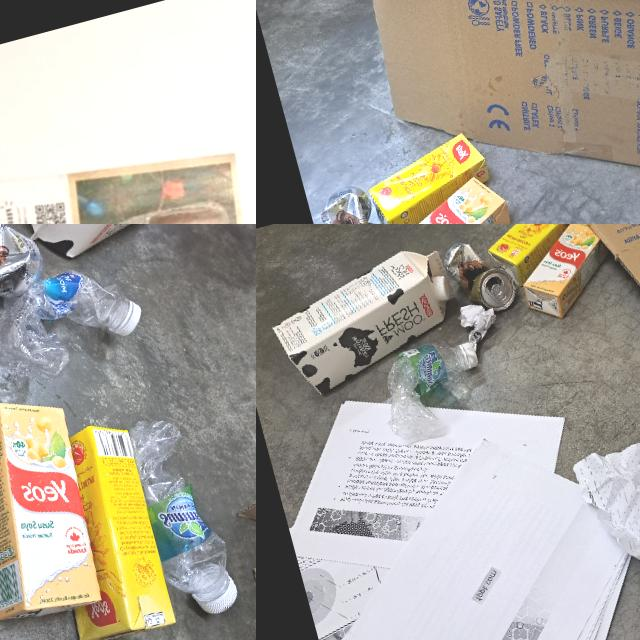aba de lata: (490, 282, 507, 304)
caixinha: (26, 415, 179, 640), (262, 241, 470, 404), (0, 387, 113, 628), (357, 126, 495, 224), (509, 224, 621, 325), (368, 166, 523, 224), (6, 224, 215, 266), (477, 224, 591, 292)
garrafa plástica: (126, 408, 234, 599), (0, 256, 143, 391), (370, 336, 476, 448)
lata: (439, 231, 521, 322), (0, 224, 50, 327), (309, 184, 387, 224)
papel: (261, 340, 640, 640), (0, 103, 256, 224), (567, 405, 640, 640), (454, 299, 502, 353)
papelão: (256, 0, 640, 224), (521, 224, 640, 351)
tampa plástica: (190, 575, 243, 618), (109, 302, 147, 338), (459, 341, 478, 368), (434, 274, 453, 301)
